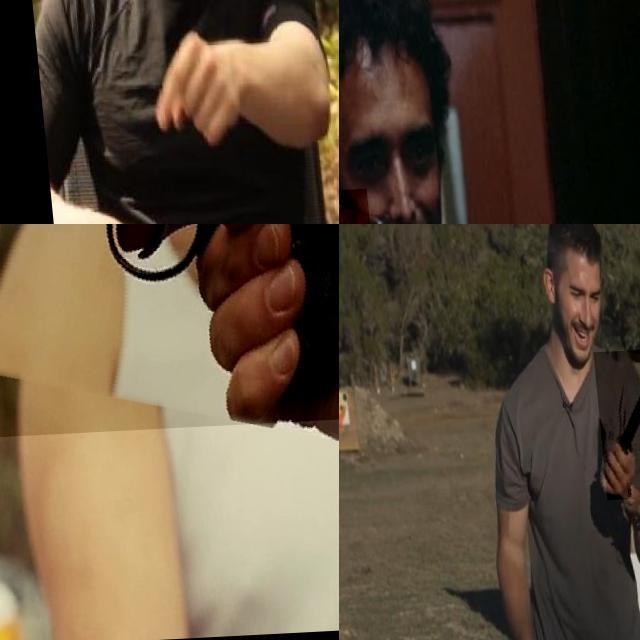-: (589, 353, 640, 503)
gun-knife-thesis - v11 Yolov5 augmented: (0, 224, 339, 439)
